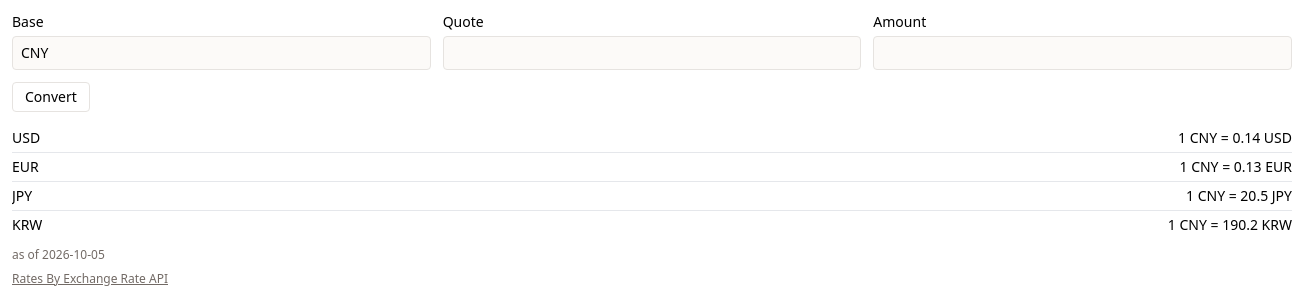
RatesSection › converts a free-form pair and amount from the returned rate
Expected: the text "USD" is shown, top-left (12, 128), bottom-right (40, 148)
In the field labelled "Quote": (652, 53) top-left (443, 36), bottom-right (861, 70), type "GBP"
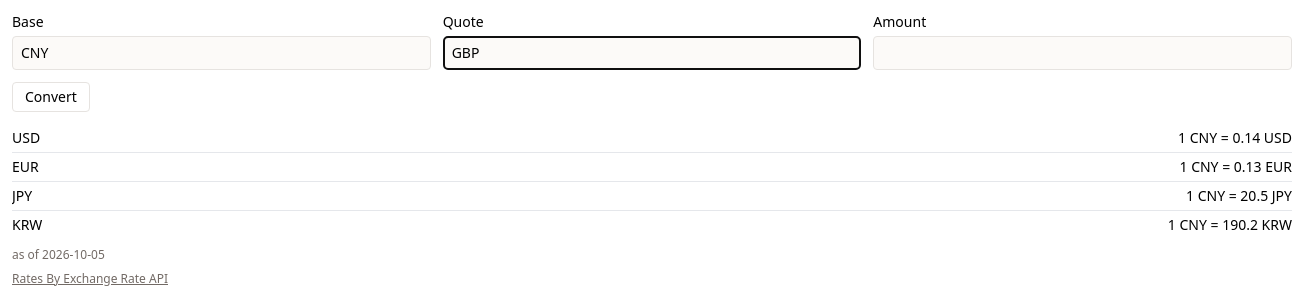
In the field labelled "Amount": (1083, 53) top-left (873, 36), bottom-right (1292, 70), type "100"
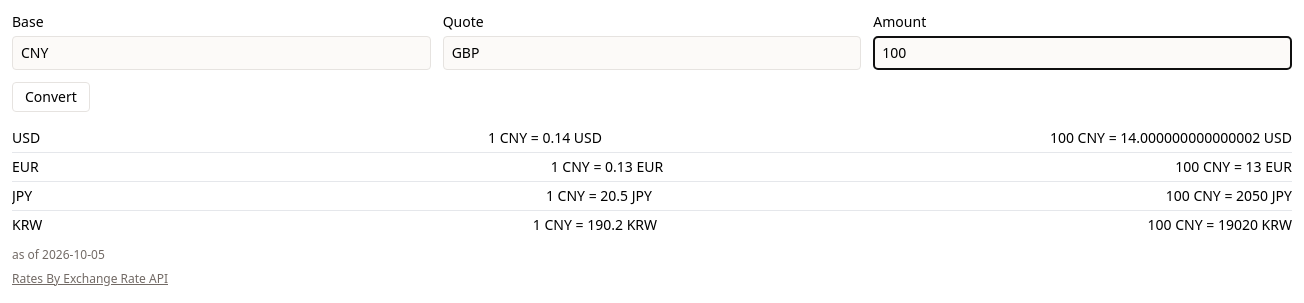
Click the button "Convert": (51, 97) top-left (12, 82), bottom-right (90, 112)
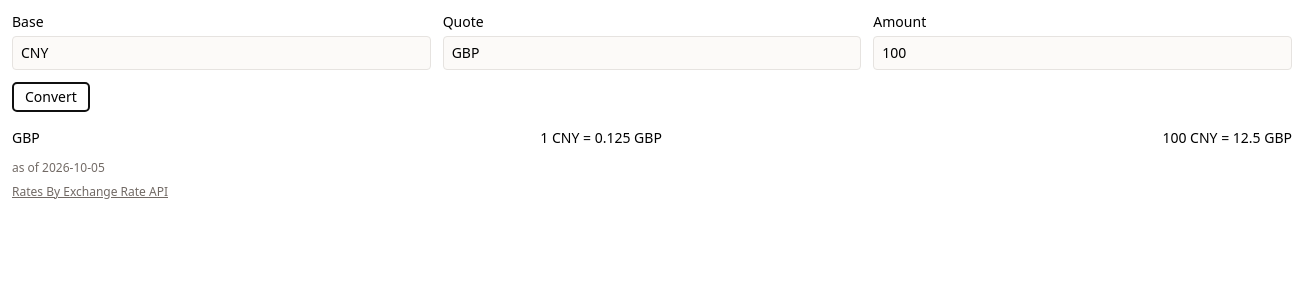
Now the text "1 CNY = 0.125 GBP" is shown, box top-left (540, 128), bottom-right (662, 148)
Now the text "100 CNY = 12.5 GBP" is shown, box top-left (1162, 128), bottom-right (1292, 148)
